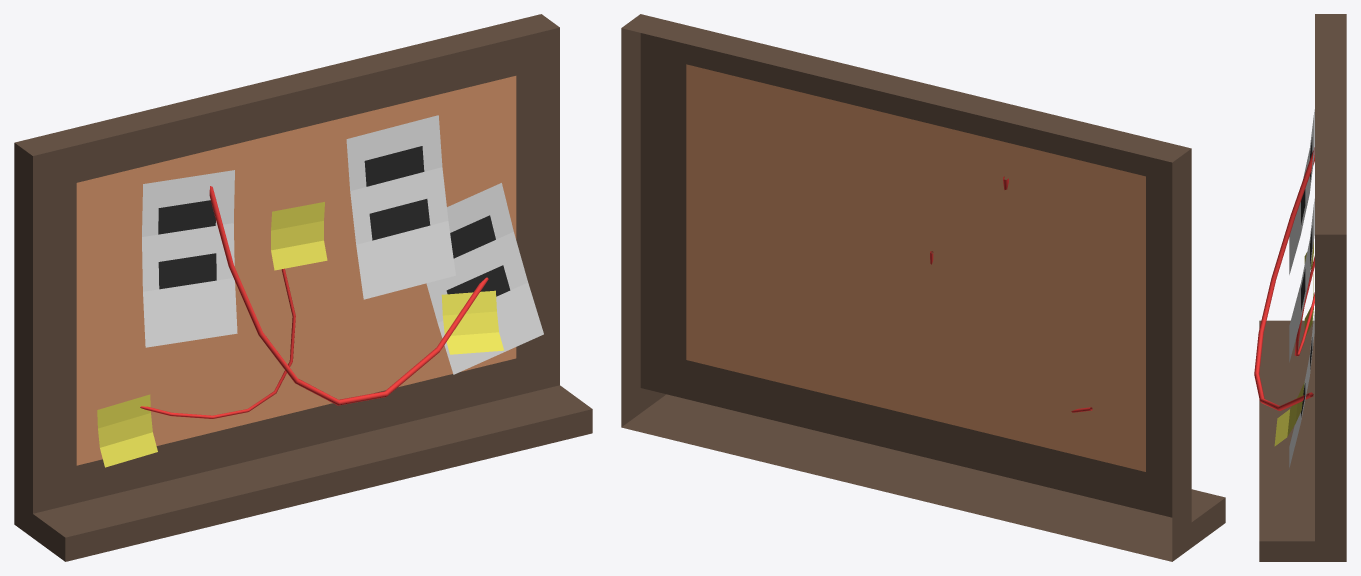
File: Noticeboard.fbx
The picture shows the model from 3 angles, left to right: view 1: azimuth 30°, elevation 25°; view 2: azimuth 150°, elevation 25°; view 3: azimuth 270°, elevation 25°; orthographic projection. The views are drawn at different scales.
Parts seen in each view (by area): view 1: Noticeboard; view 2: Noticeboard; view 3: Noticeboard.
Part boxes in pixels (box(x1,y1,x2,y2)): Noticeboard: box(14, 14, 592, 561); Noticeboard: box(621, 14, 1225, 561); Noticeboard: box(1254, 14, 1346, 561).
Bounding box in the file's own units: 200 × 138 × 35.5.
